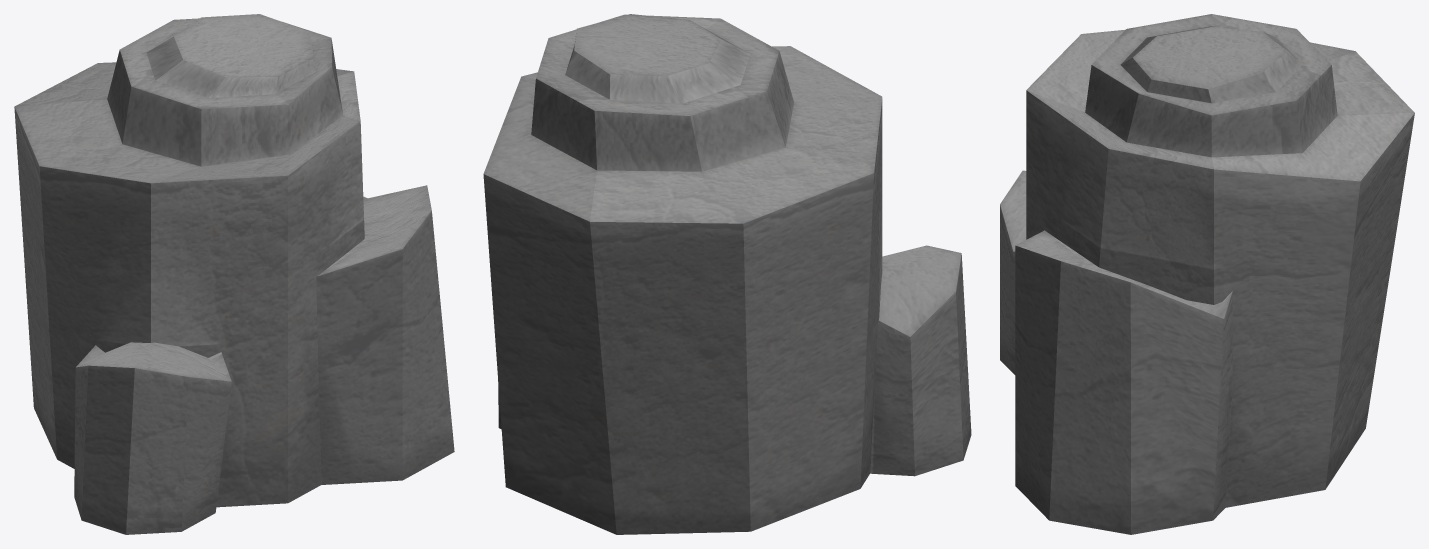
File: stone 2.fbx
The picture shows the model from 3 angles, left to right: view 1: azimuth 30°, elevation 25°; view 2: azimuth 150°, elevation 25°; view 3: azimuth 270°, elevation 25°; orthographic projection. The views are drawn at different scales.
Parts seen in each view (by area): view 1: Cylinder.005; view 2: Cylinder.005; view 3: Cylinder.005.
Boxes of the visible parts, left/top/right/bottom form: Cylinder.005: left=14, top=14, right=454, bottom=534; Cylinder.005: left=483, top=14, right=971, bottom=534; Cylinder.005: left=1000, top=14, right=1414, bottom=534.
Size of the model in its own units: 936 by 888 by 833.
